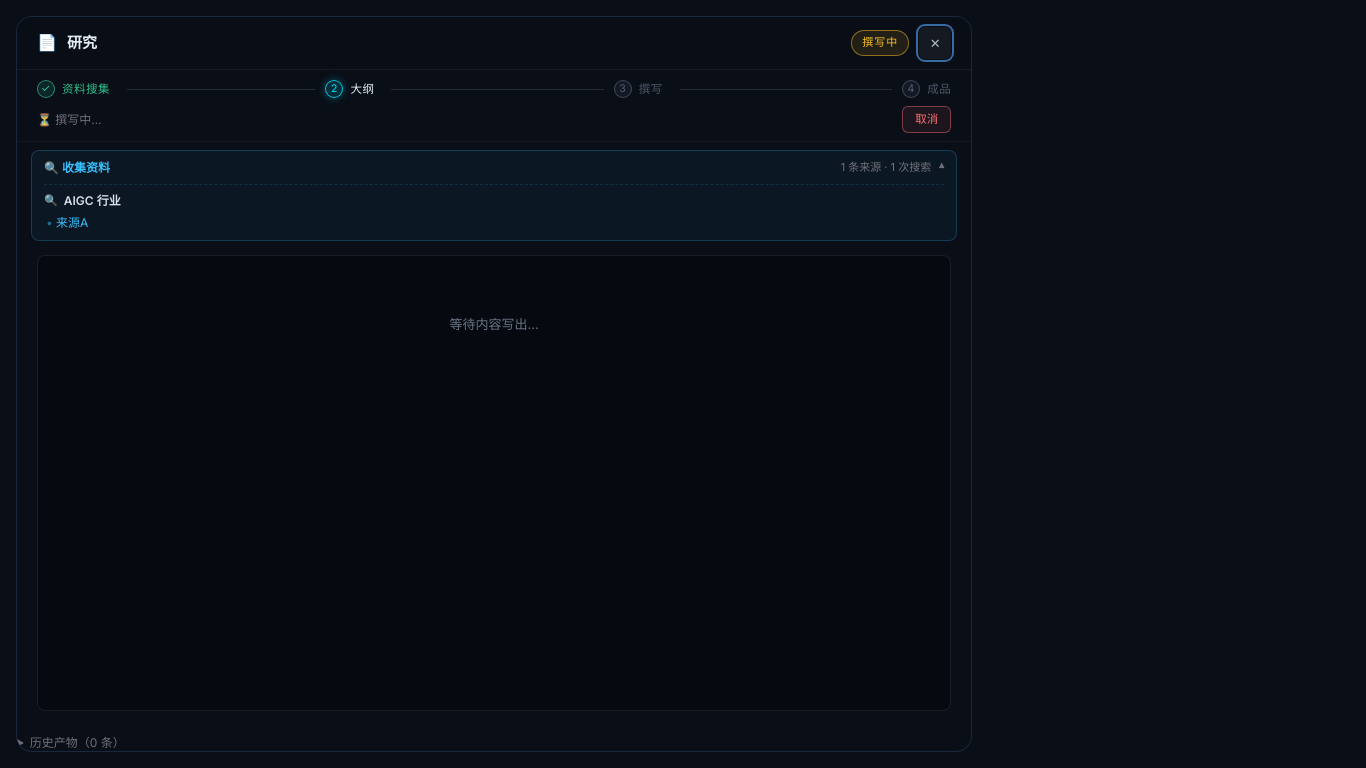
Test: 2026-08-23 资料区（研究阶段 WebSearch 插桩） › 资料区折叠：点击头部收起（内容隐藏、计数保留）
The image size is (1366, 768).
Check: the link "来源A" is shown, box [56, 215, 88, 230]
Click the button "🔍 收集资料 1 条来源 · 1 次搜索 ▾". click: [77, 167]
box: [32, 151, 956, 184]
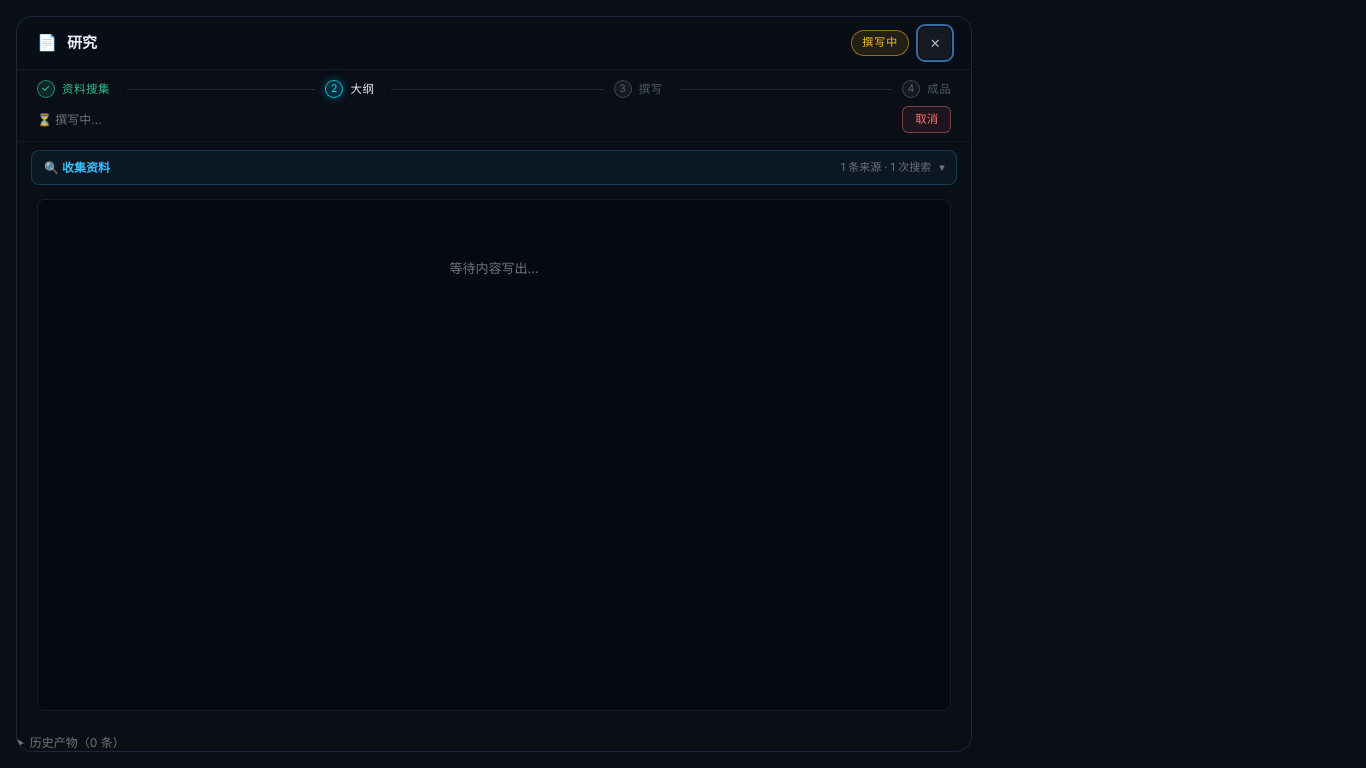
Check: the text "1 条来源 · 1 次搜索" is shown, box [841, 159, 931, 176]
Check: the link "来源A" is gone
